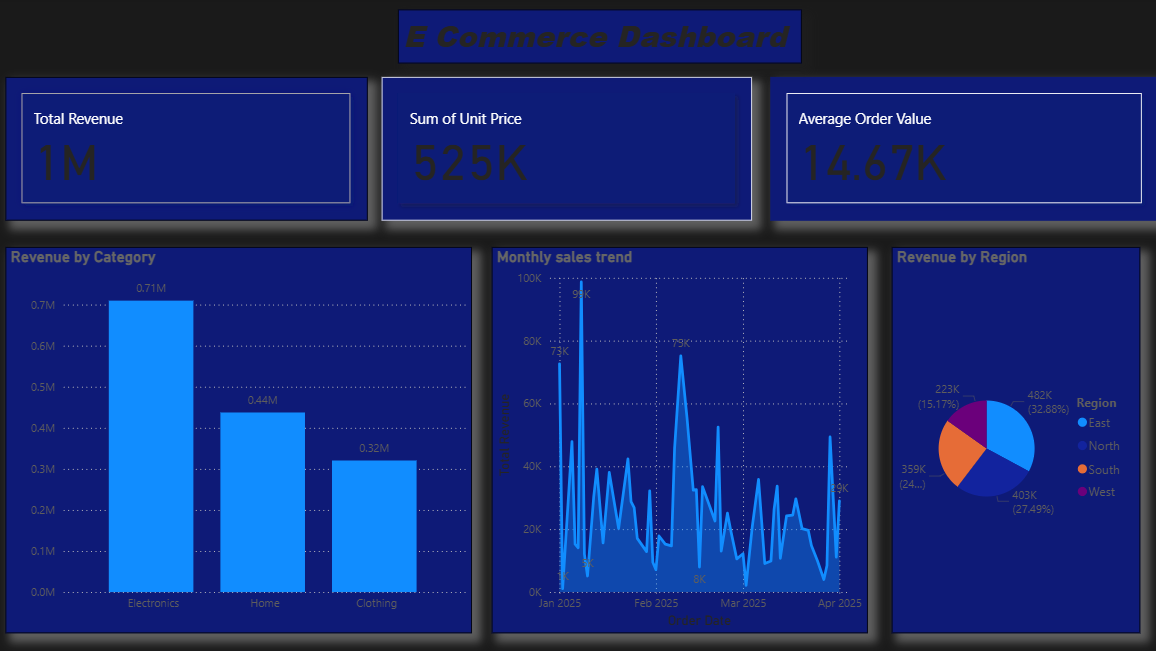

Layout of this report page (visuals, bound fields, positions):
{"tool":"powerbi","page":{"name":"Page 1","canvas":[1280,720],"ordinal":0},"visuals":[{"type":"cardVisual","fields":{"Data":["Sheet1.Total Revenue"]},"box":[13.7,87.8,397.9,157.8],"z":0},{"type":"cardVisual","fields":{"Data":["Sum(Sheet1.Unit Price)"]},"box":[426.8,87.8,406.2,157.8],"z":1},{"type":"cardVisual","fields":{"Data":["Sheet1.Average Order Value"]},"box":[853.5,87.8,426.8,157.8],"z":2},{"type":"lineChart","title":"Monthly  sales trend","fields":{"Y":["Sheet1.Total Revenue"],"Category":["Sheet1.Order Date"]},"box":[547.5,274.4,413,424],"z":3},{"type":"clusteredColumnChart","title":" Revenue by Category","fields":{"Category":["Sheet1.Category"],"Y":["Sheet1.Total Revenue"]},"box":[13.7,274.4,511.8,424],"z":4},{"type":"pieChart","title":" Revenue by Region","fields":{"Category":["Sheet1.Region"],"Y":["Sheet1.Total Revenue"]},"box":[986.6,274.4,273.1,424],"z":5},{"type":"textbox","box":[444.6,13.7,443.2,59],"z":6}]}

Visuals, with their boxes in screenshot pixels (x1, y1, x2, y2), scaled from the page's 1280x720 canvas onto the 1156x651 screenshot:
cardVisual - Sheet1.Total Revenue: region(12, 79, 372, 222)
cardVisual - Sum(Sheet1.Unit Price): region(385, 79, 752, 222)
cardVisual - Sheet1.Average Order Value: region(771, 79, 1155, 222)
"Monthly  sales trend" lineChart: region(494, 248, 867, 631)
" Revenue by Category" clusteredColumnChart: region(12, 248, 475, 631)
" Revenue by Region" pieChart: region(891, 248, 1138, 631)
textbox: region(402, 12, 802, 66)
